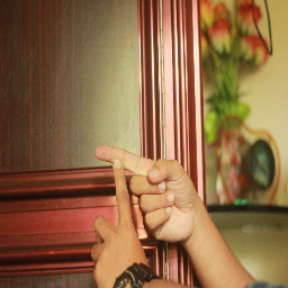T: (87, 133, 167, 256)
